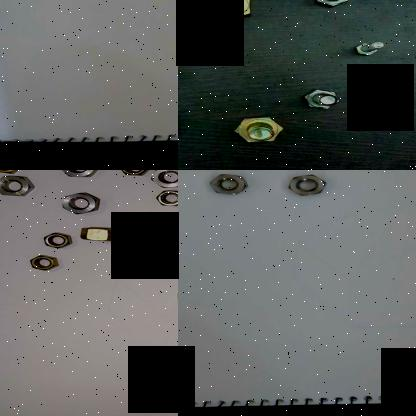Bolts: (195, 0, 277, 27), (228, 114, 288, 148), (299, 84, 344, 112), (356, 37, 388, 59), (311, 0, 365, 12), (178, 62, 188, 83)
NUTS: (287, 172, 332, 198), (206, 172, 252, 196), (75, 223, 131, 242), (60, 190, 104, 214), (144, 209, 178, 235), (0, 172, 35, 197), (42, 229, 73, 249), (29, 253, 62, 271), (121, 238, 151, 257), (149, 170, 178, 188), (155, 187, 178, 207), (56, 170, 100, 180), (162, 241, 178, 267), (114, 170, 150, 176)
